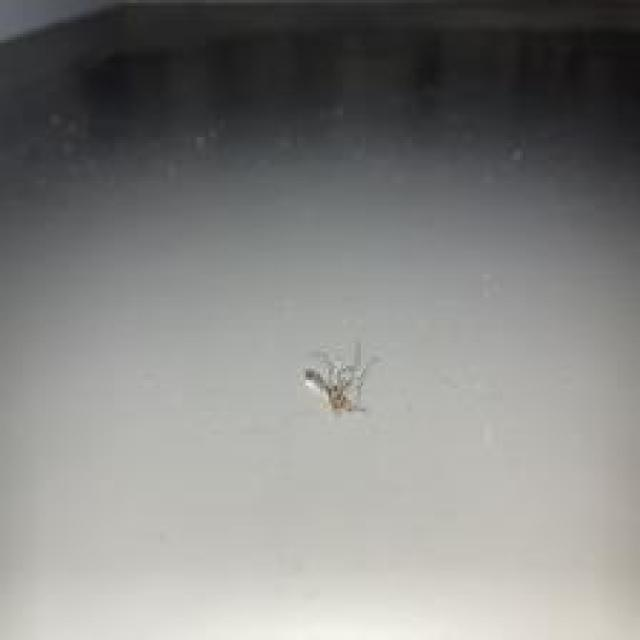Culex: (301, 341, 370, 416)
